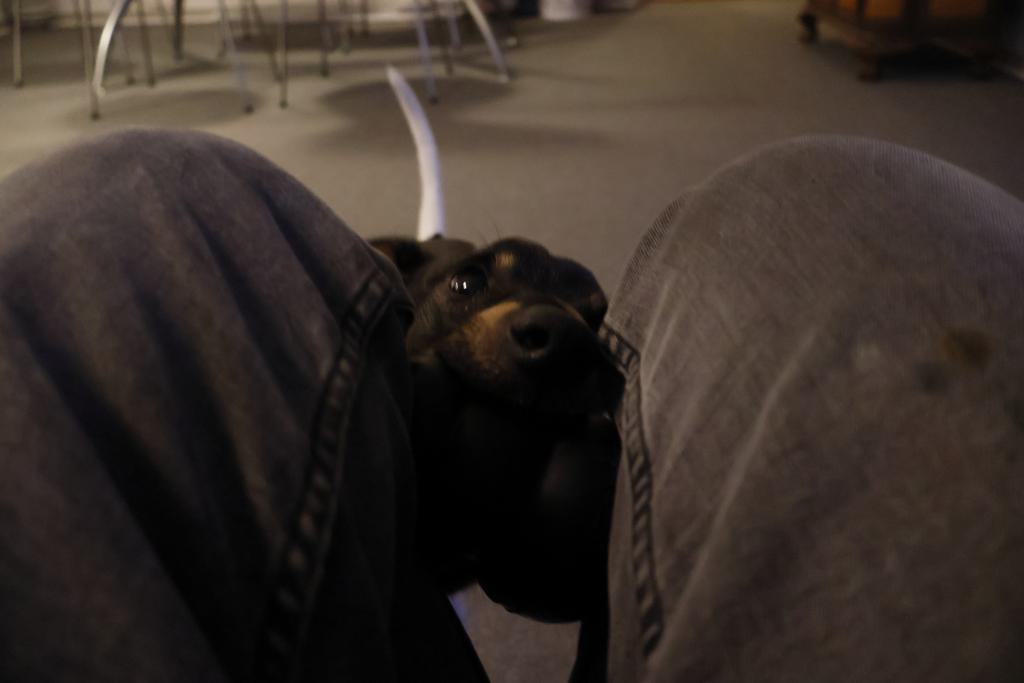Dog: (313, 57, 632, 622)
Humanoid: (0, 112, 1024, 683)
